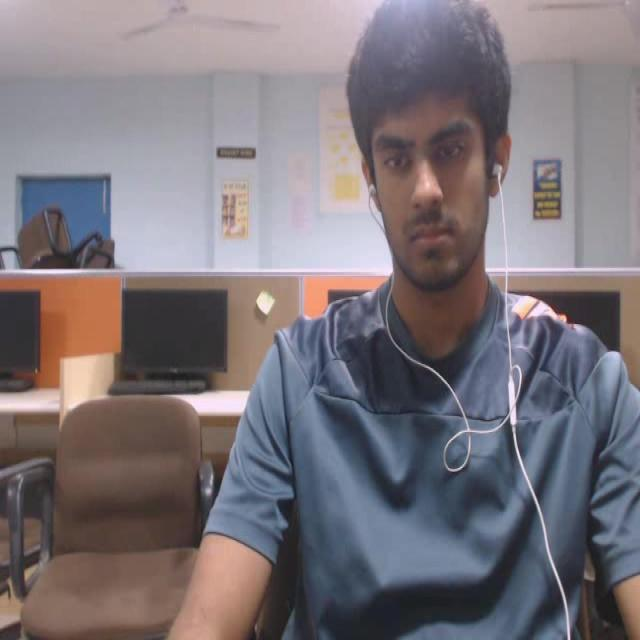Bored: (323, 0, 524, 303)
